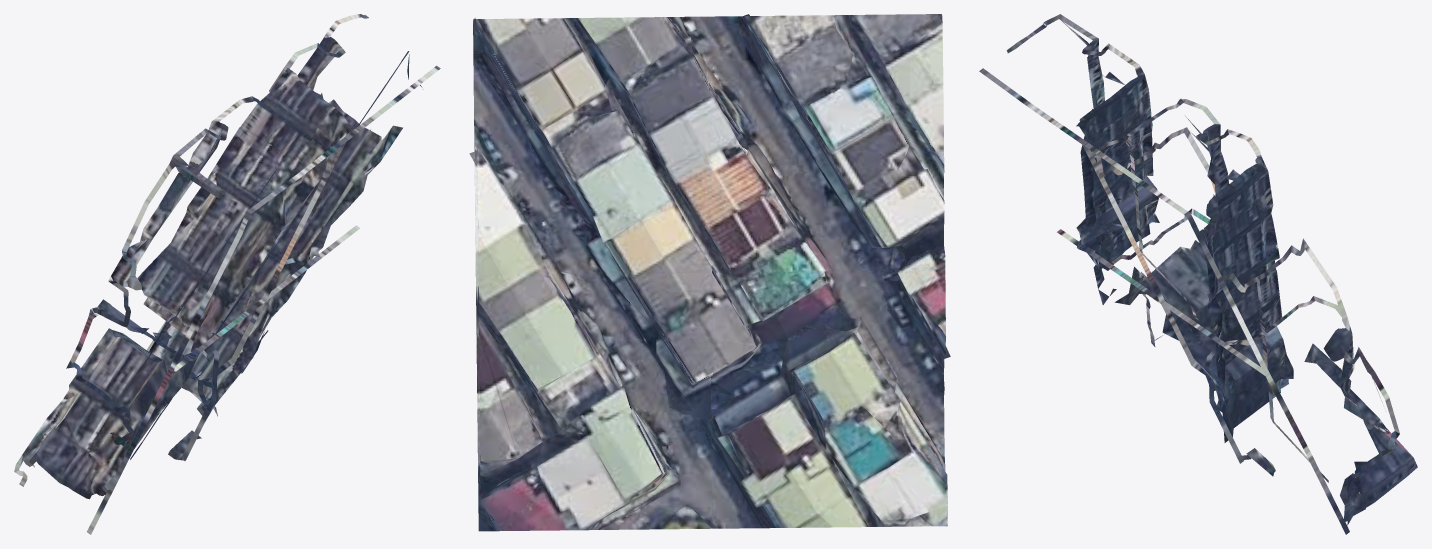
3 views of the same model, side by side, from view 1: azimuth 30°, elevation 25°; view 2: azimuth 150°, elevation 25°; view 3: azimuth 270°, elevation 25° (orthographic). The views are drawn at different scales.
Size of the model in its own units: 83.94 by 77.2 by 76.11.
Materials: 1 (1 with a texture image).
